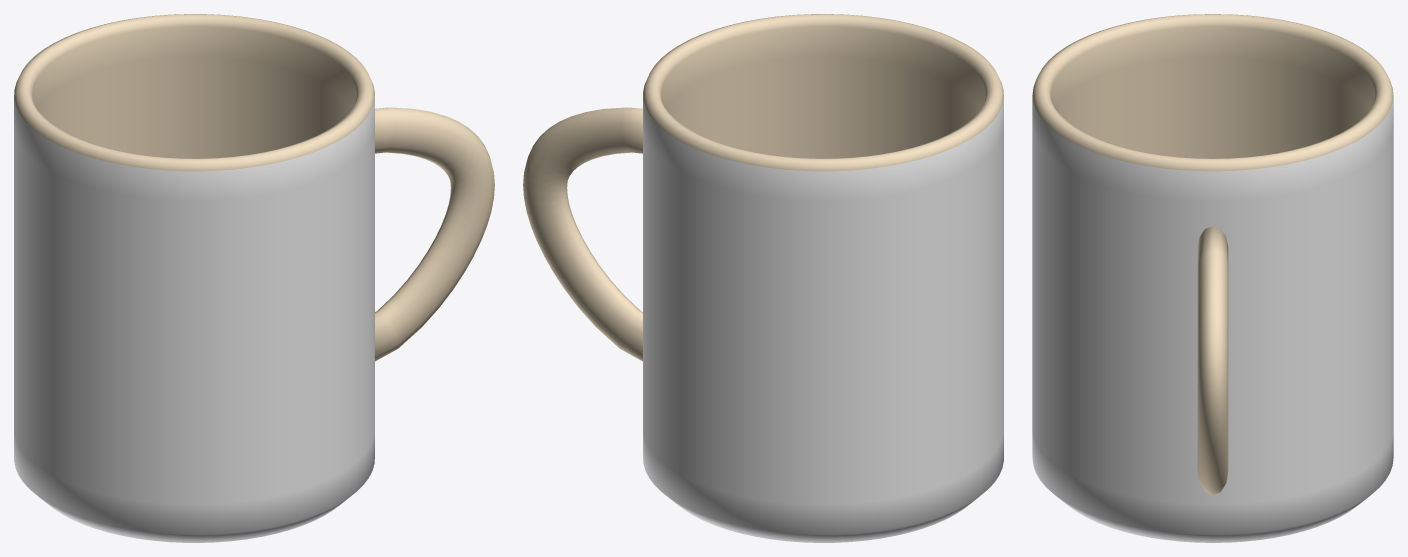
The picture shows the model from 3 angles, left to right: view 1: azimuth 30°, elevation 25°; view 2: azimuth 150°, elevation 25°; view 3: azimuth 270°, elevation 25°; orthographic projection.
Parts seen in each view (by area): view 1: Mug106; view 2: Mug106; view 3: Mug106.
Part boxes in pixels (x1,y1,x2,y2): Mug106: (14, 14, 494, 542); Mug106: (523, 14, 1003, 542); Mug106: (1032, 14, 1393, 542).
Bounding box in the file's own units: 0.1195 × 0.0971 × 0.082.
